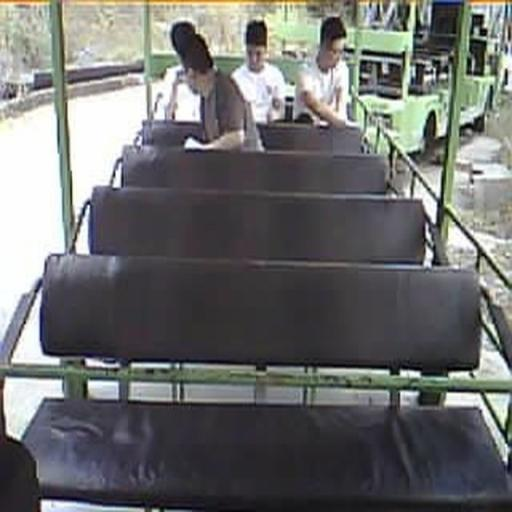persona: (181, 36, 262, 153), (293, 16, 350, 128), (229, 19, 287, 124), (154, 22, 200, 120)
